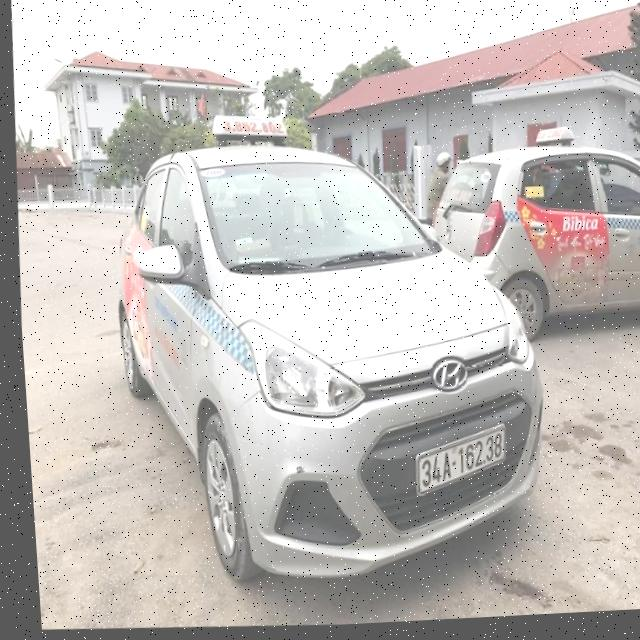car: (88, 124, 572, 600), (413, 134, 640, 359)
plate: (409, 420, 513, 499)
